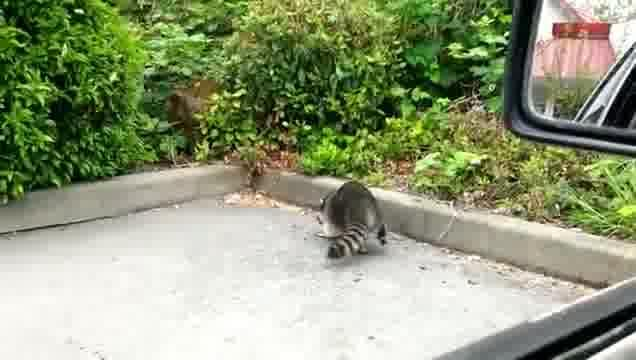raccoon: (318, 179, 390, 266)
